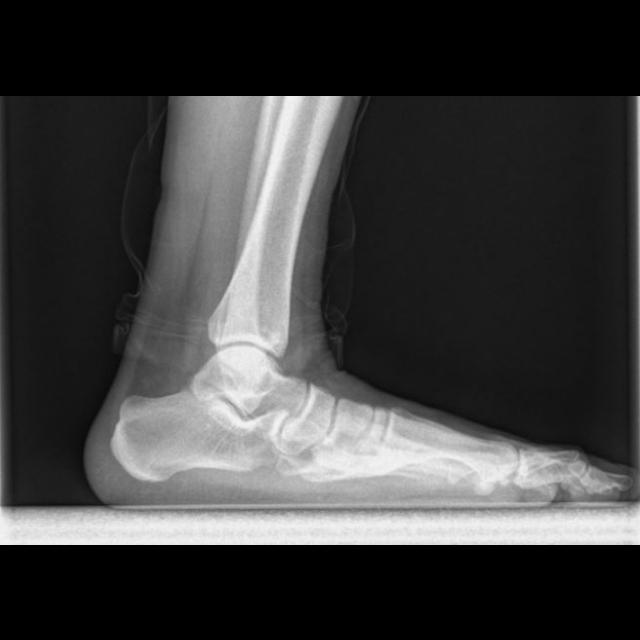a: (111, 389, 276, 481)
b: (276, 381, 336, 454)
c: (385, 411, 517, 494)
